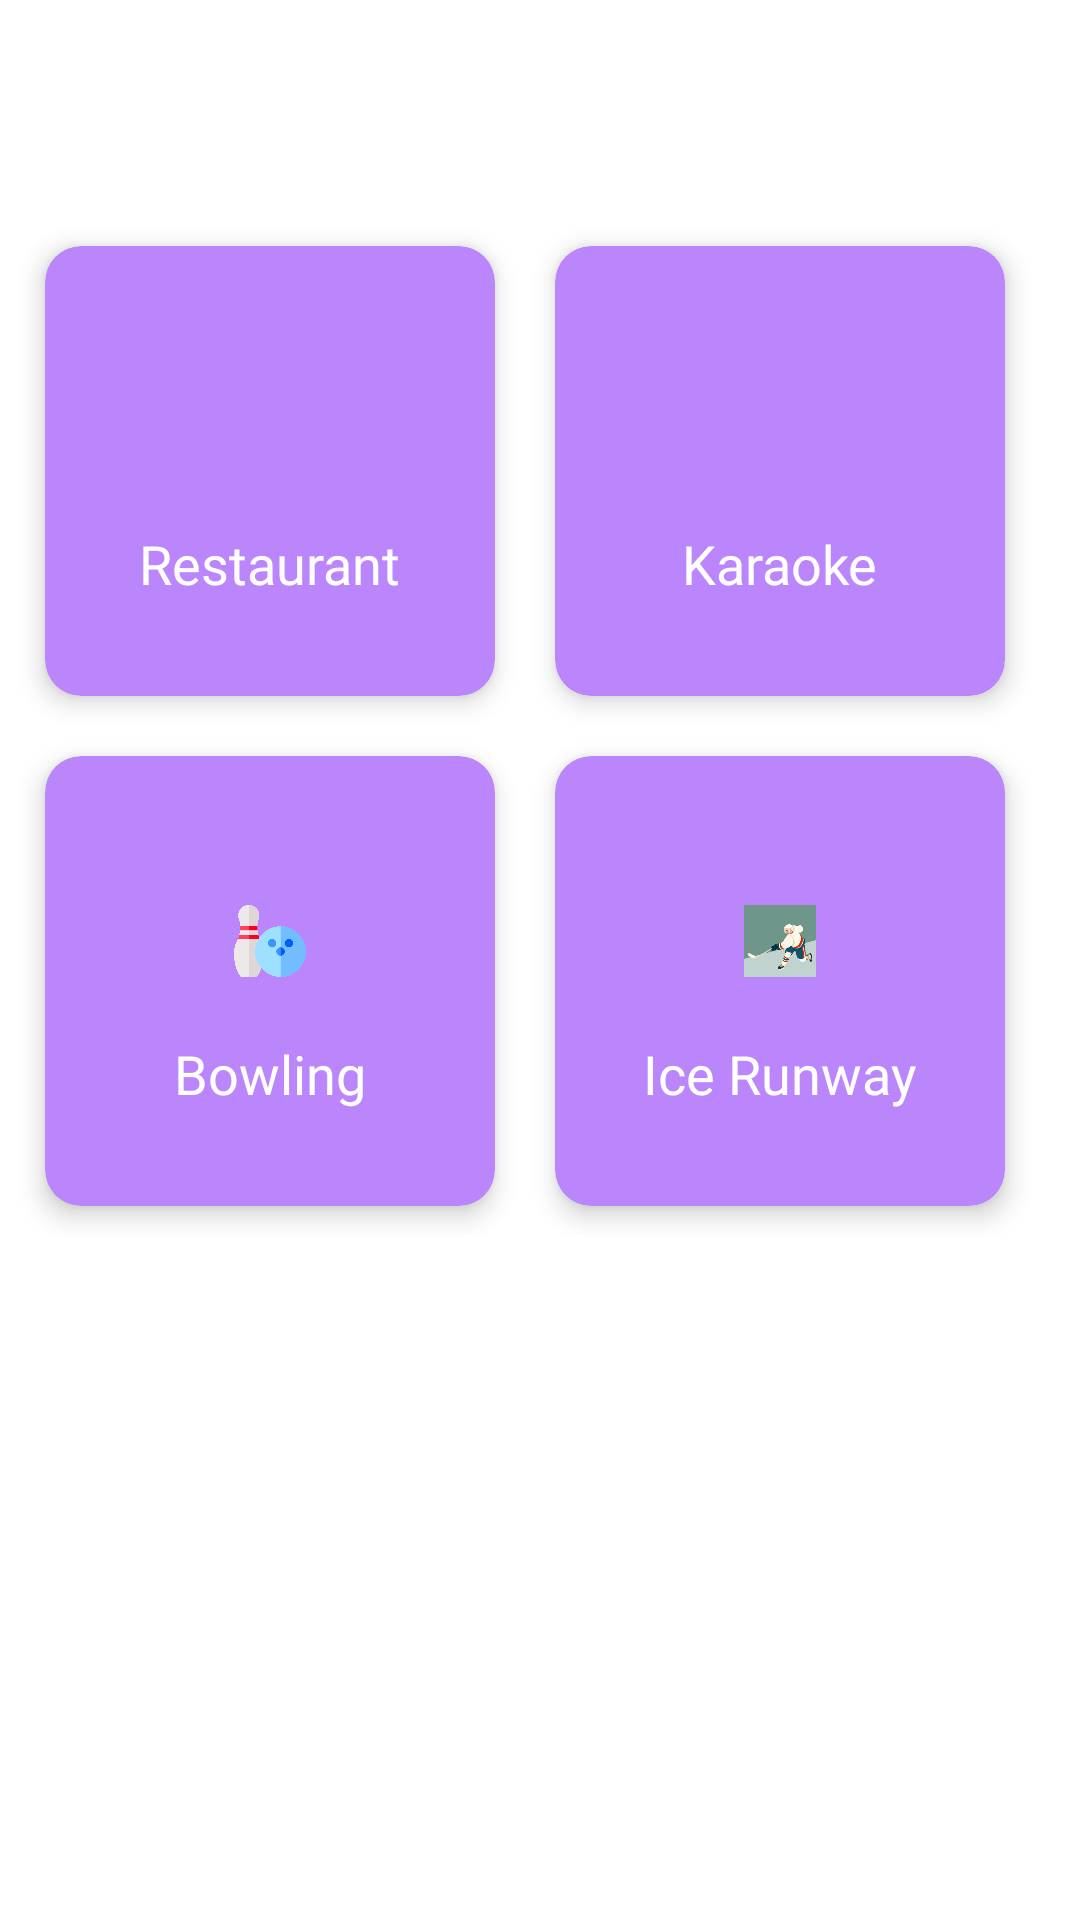

Point at icon controls on the screen. Image size 1080w x 1920h, points as point (x, y).
eisstadion: point (780, 941)
